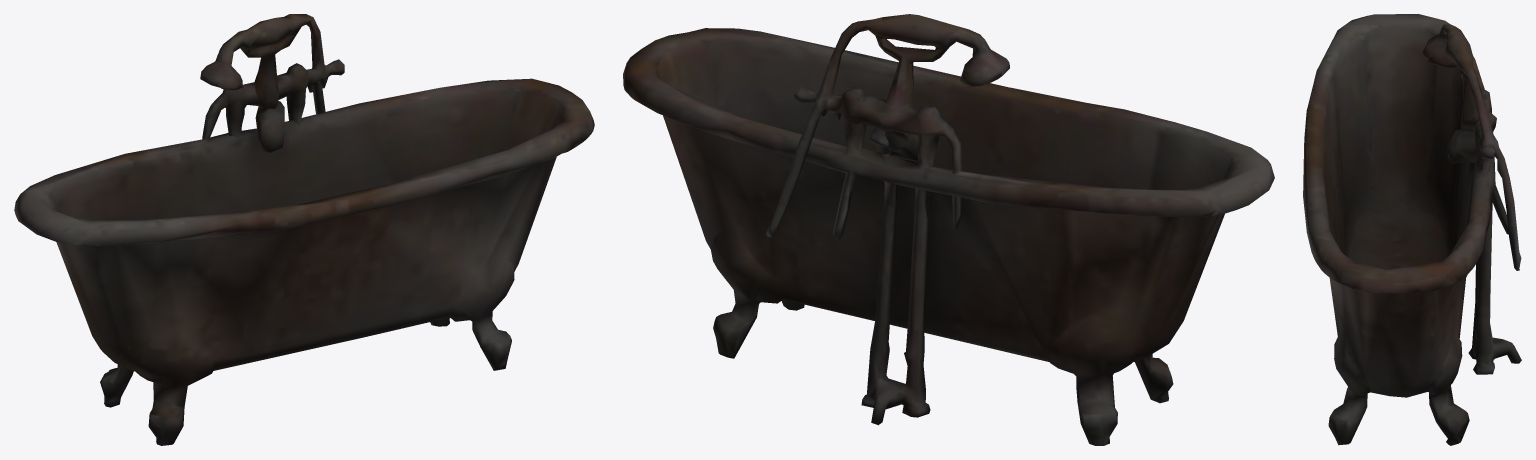
Rendered from worn-iron-bathtub-v001.glb.
3 views of the same model, side by side, from view 1: azimuth 30°, elevation 25°; view 2: azimuth 150°, elevation 25°; view 3: azimuth 270°, elevation 25° (orthographic). The views are drawn at different scales.
Visible parts, largest first — view 1: worn-iron-bathtub; view 2: worn-iron-bathtub; view 3: worn-iron-bathtub.
Boxes of the visible parts, x1=… form: worn-iron-bathtub: x1=14, y1=14, x2=594, y2=445; worn-iron-bathtub: x1=623, y1=14, x2=1274, y2=445; worn-iron-bathtub: x1=1303, y1=14, x2=1521, y2=445.
Bounding box in the file's own units: 1.16 × 0.6896 × 0.4177.
1 material, 1 textured.
